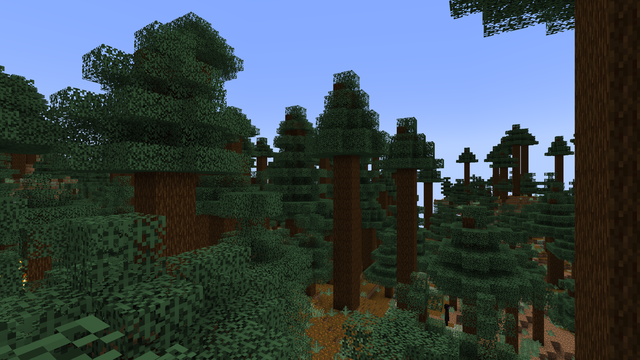endermens: (444, 302, 449, 325)
